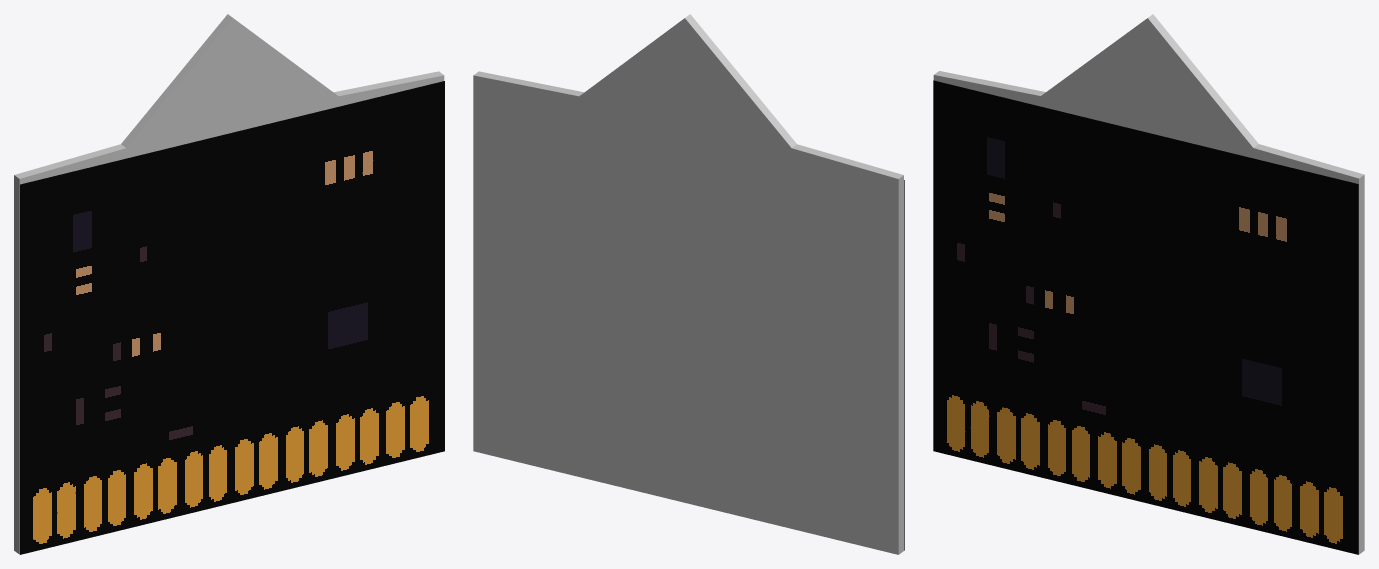
File: ChipSpike.glb
3 views of the same model, side by side, from view 1: azimuth 30°, elevation 25°; view 2: azimuth 150°, elevation 25°; view 3: azimuth 330°, elevation 25° (orthographic).
Parts seen in each view (by area): view 1: Cube; view 2: Cube; view 3: Cube.
Boxes of the visible parts, x1=… form: Cube: x1=14, y1=14, x2=444, y2=554; Cube: x1=473, y1=14, x2=904, y2=554; Cube: x1=933, y1=14, x2=1364, y2=554.
Bounding box in the file's own units: 5.19 × 5.65 × 0.1253.
Materials: 2 (2 with a texture image).
